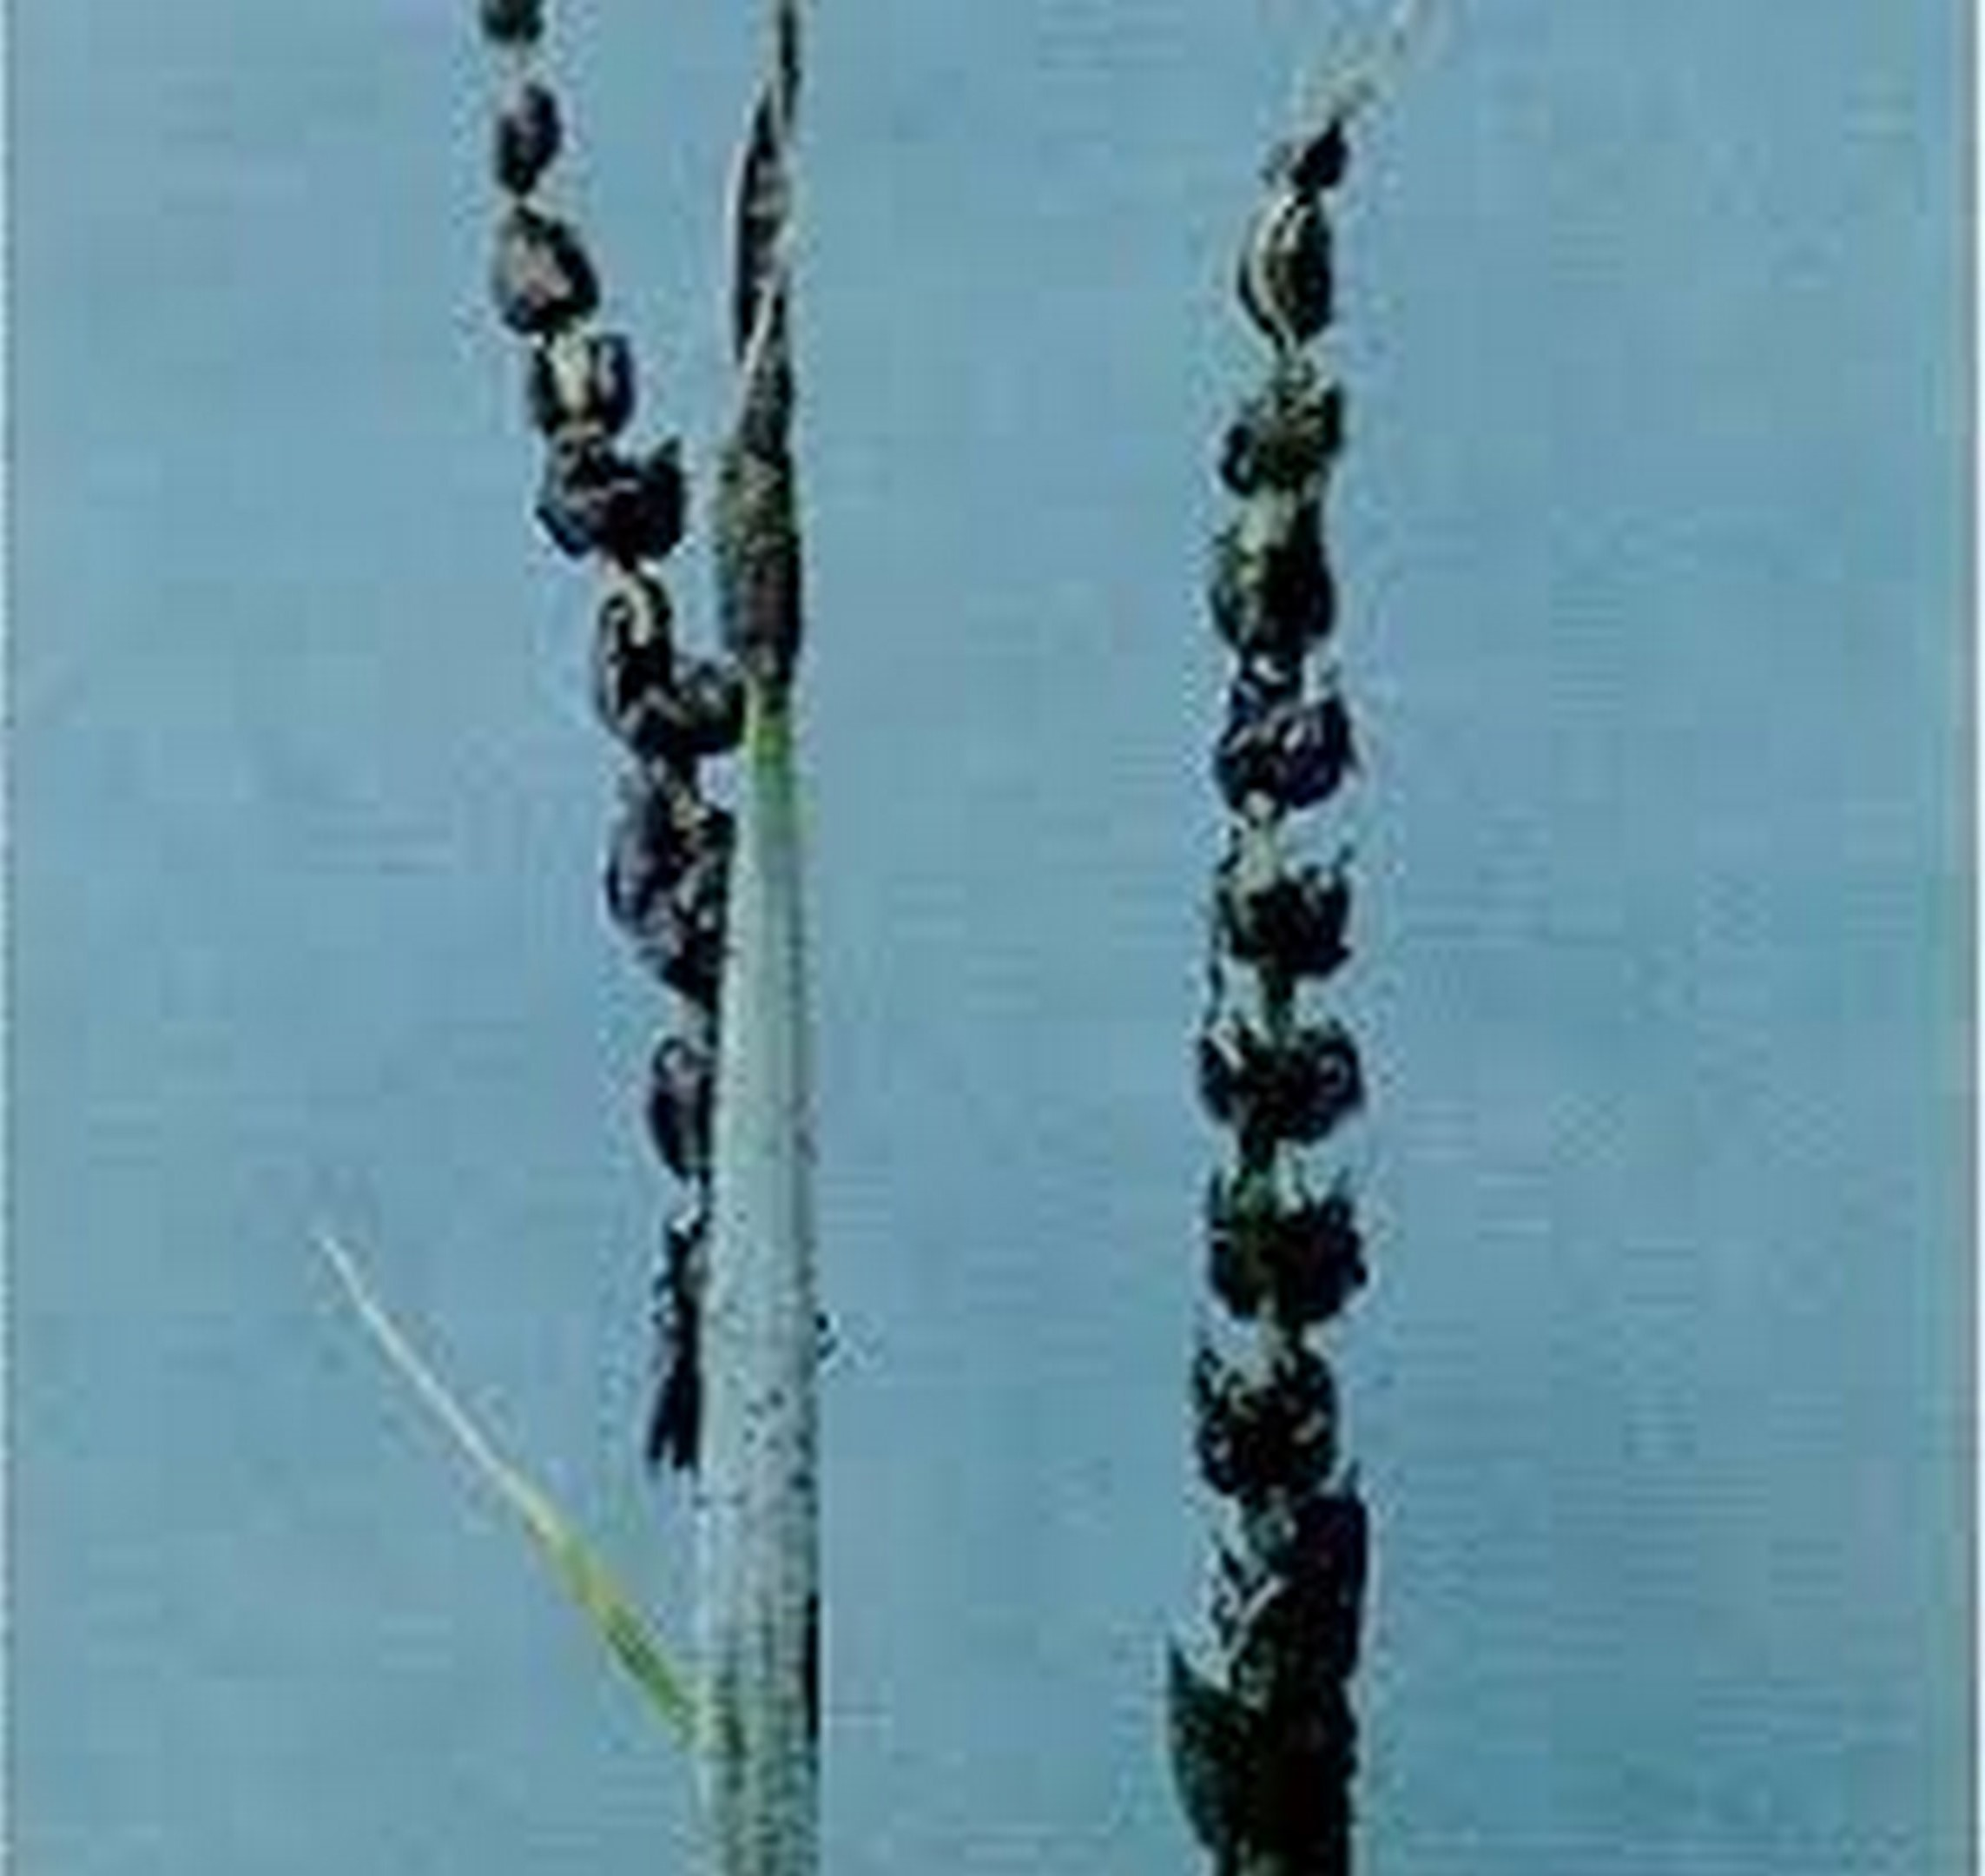Wheat Loose Smut: (1065, 108, 1460, 1800)
